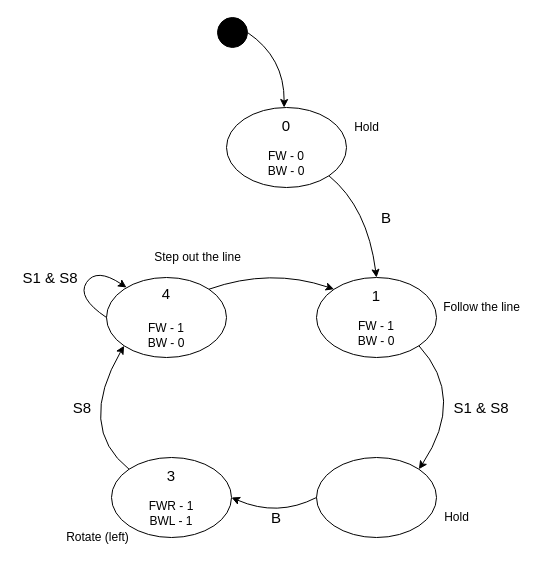
The diagram is 543 pixels wide and 565 high, and some of its shapes have lost their labels. The box of each missing label's shape, as (x1, y1, x2, y2) in pixels:
2 FW - 0 BW - 0: (316, 456, 436, 538)
Reset: (216, 16, 248, 48)
